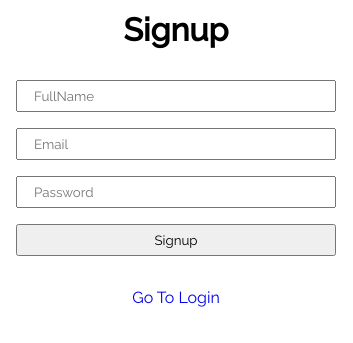
Test: Signup Page Tests › the account exists
In the field with placeholder "FullName": {"x": 176, "y": 96} 16,80 -> 336,112, type "mevlüt can tuna"
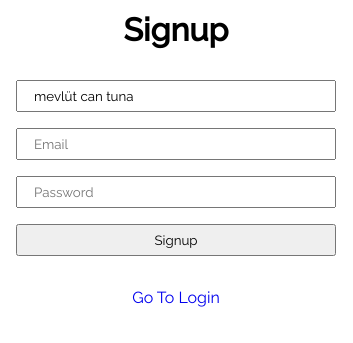
In the field with placeholder "Email": {"x": 176, "y": 144} 16,128 -> 336,160, type "mttuna90@gmail.com"
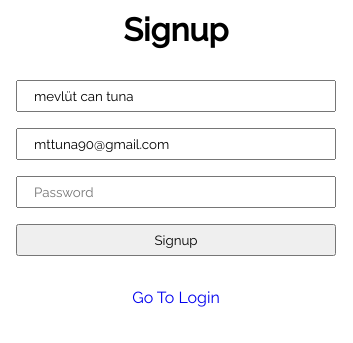
In the password field with placeholder "Password": {"x": 176, "y": 192} 16,176 -> 336,208, type "123123"
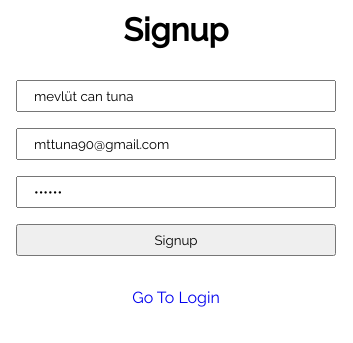
Click the button: {"x": 176, "y": 240} 16,224 -> 336,256
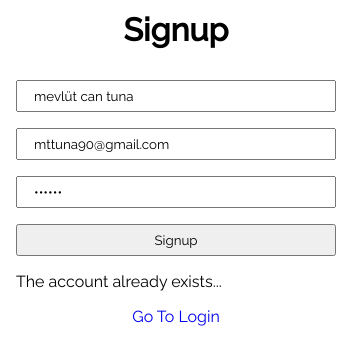
Now the text "The account already exists..." is shown, box 16,272 -> 222,291
